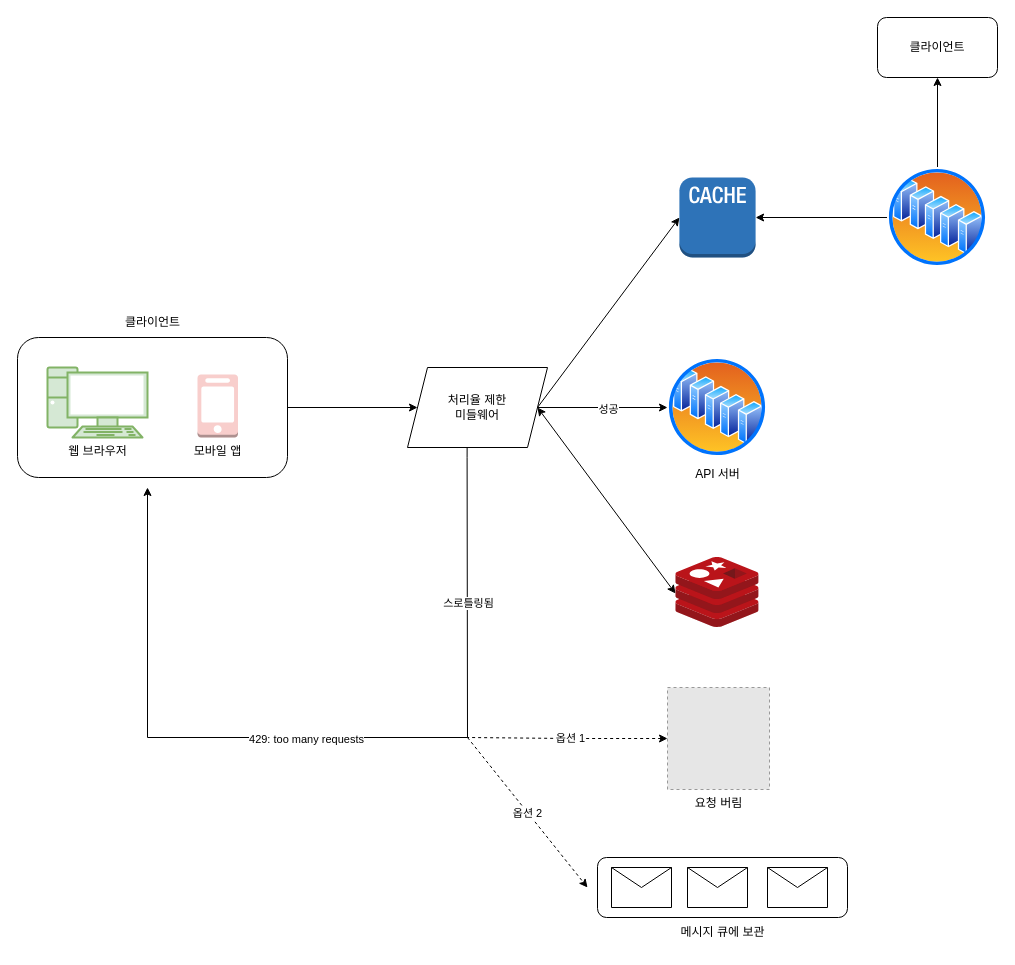
This 1015x965 diagram has some shape labels left out. Grey dashed boxes stand in for pictures. The shapes that lost their labels are listed below. From the top down, each one's centre as x and y in pixels, then its label:
At pixel 717 217: "캐시된 규칙".
At pixel 937 217: "작업 프로세스".
At pixel 717 592: "레디스".
